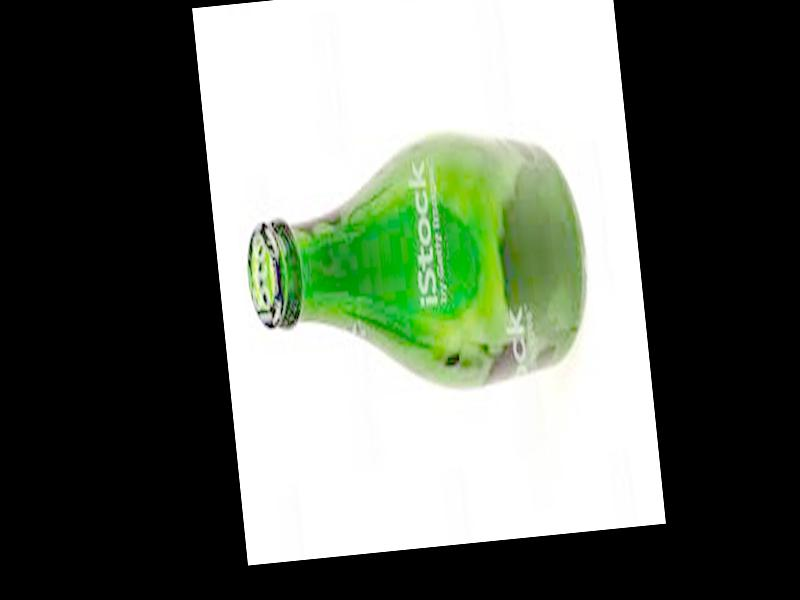Beer: (234, 119, 597, 411)
